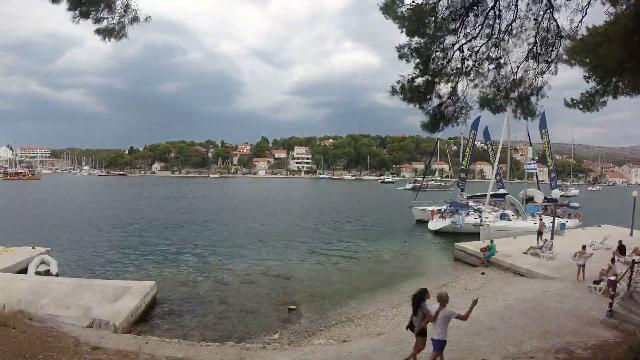Freighter: (0, 160, 50, 186)
